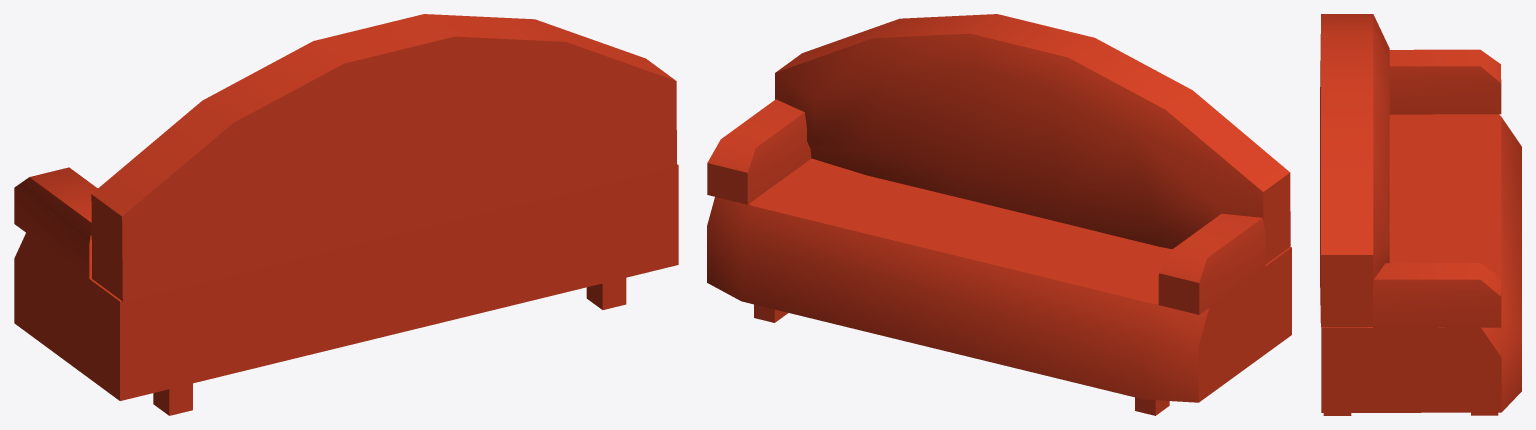
File: Canape.FBX
The picture shows the model from 3 angles, left to right: view 1: azimuth 30°, elevation 25°; view 2: azimuth 150°, elevation 25°; view 3: azimuth 270°, elevation 25°; orthographic projection. The views are drawn at different scales.
Parts seen in each view (by area): view 1: Canape; view 2: Canape; view 3: Canape.
Boxes of the visible parts, box(x1,y1,x2,y2) form: Canape: box(14, 14, 678, 415); Canape: box(707, 14, 1291, 415); Canape: box(1320, 14, 1521, 415).
Bounding box in the file's own units: 2.01 × 1.07 × 0.7363.
